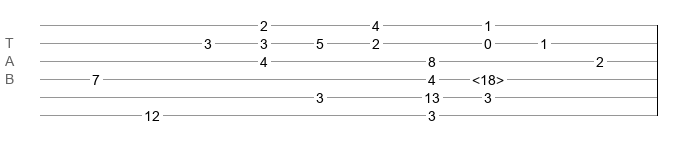0: (484, 36, 492, 46)
1: (484, 18, 492, 28), (540, 36, 548, 46)
12: (144, 108, 160, 118)
13: (424, 90, 440, 100)
2: (260, 18, 268, 28), (372, 36, 380, 46), (596, 54, 604, 64)
3: (204, 36, 212, 46), (260, 36, 268, 46), (316, 90, 324, 100), (428, 108, 436, 118), (484, 90, 492, 100)
4: (260, 54, 268, 64), (372, 18, 380, 28), (428, 72, 436, 82)
5: (316, 36, 324, 46)
7: (92, 72, 100, 82)
8: (428, 54, 436, 64)
harmonic: (472, 72, 504, 82)
